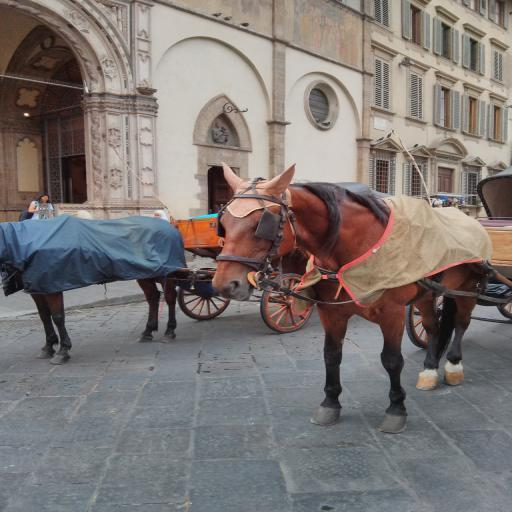horse: (211, 163, 493, 437), (0, 214, 186, 366), (29, 275, 183, 366)
